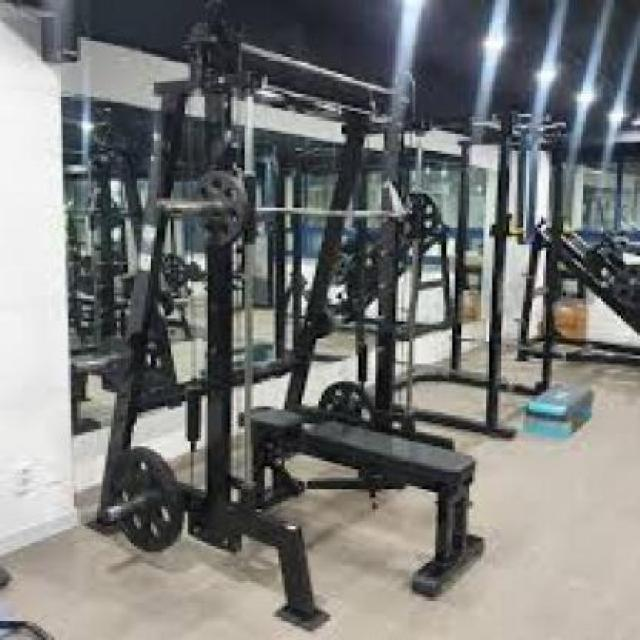smith machine: (94, 11, 489, 631)
